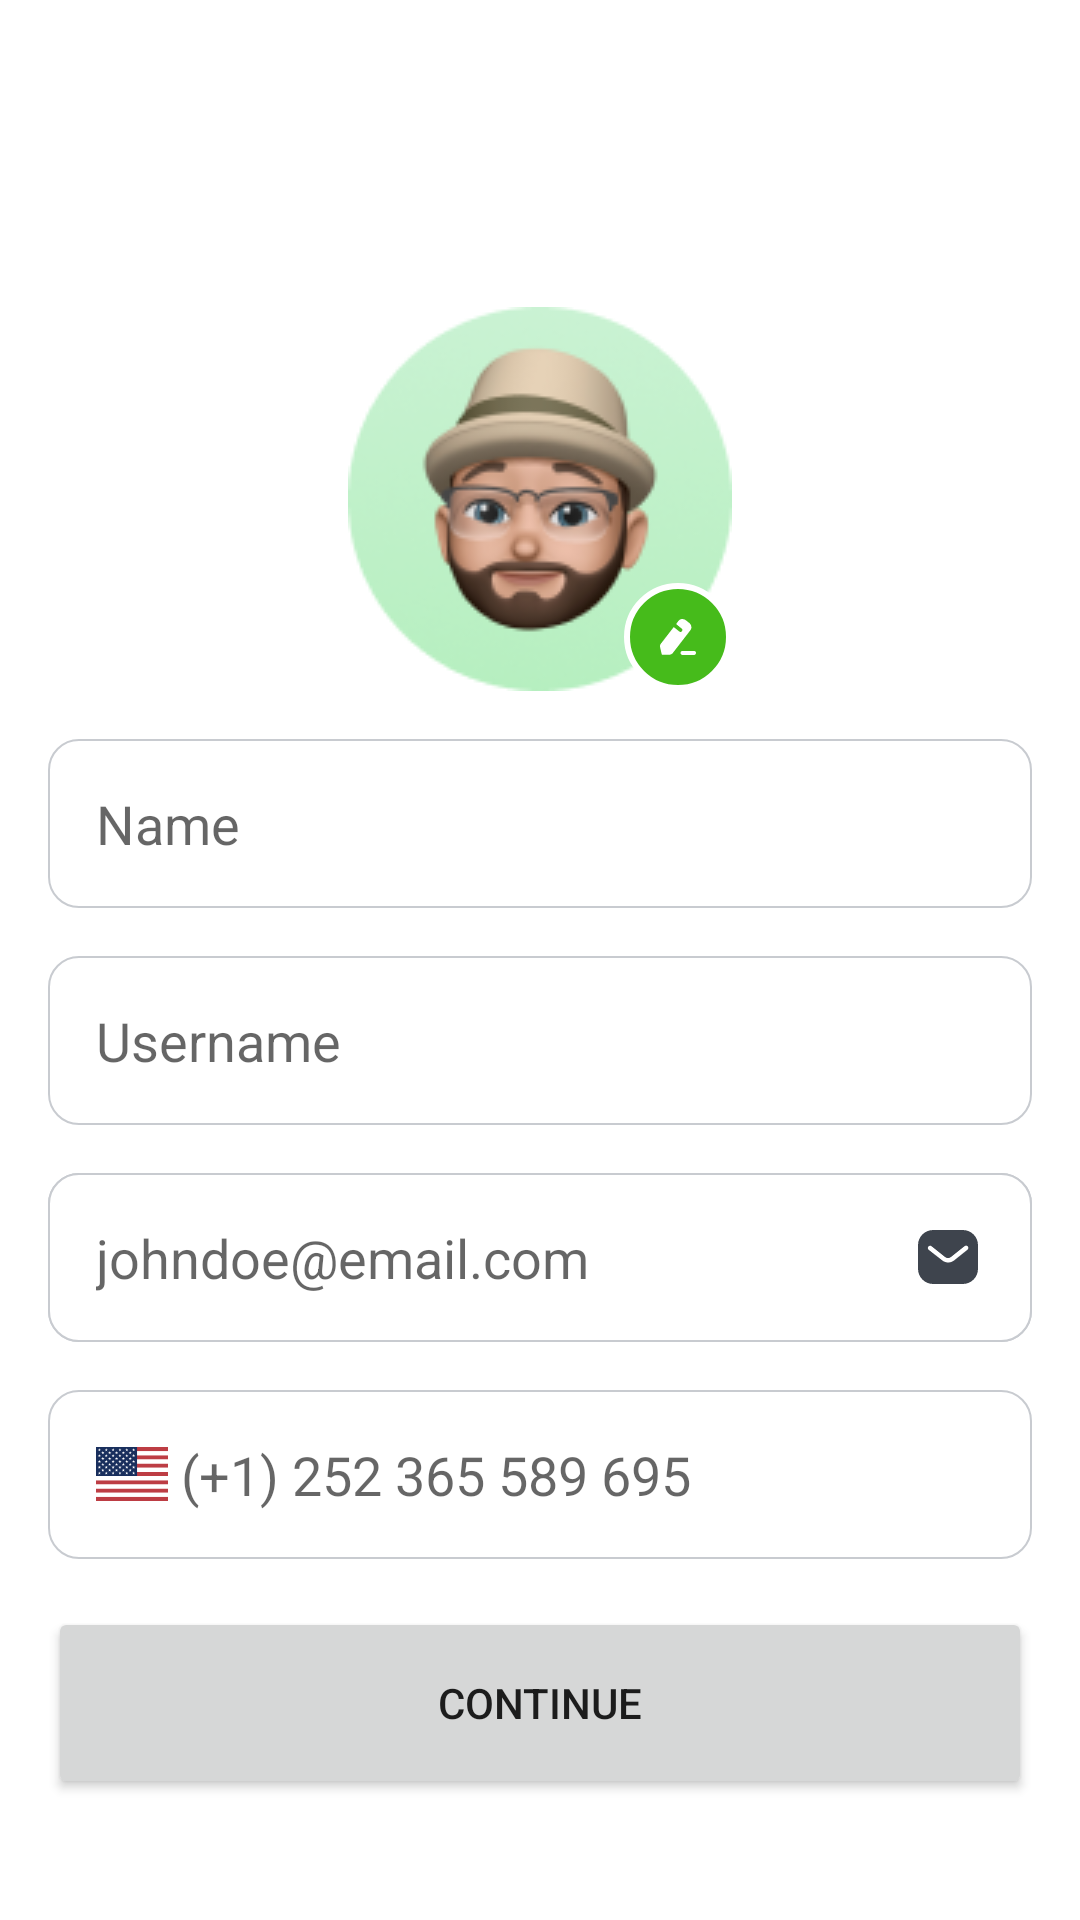

Where to tap for icons on this 1080 x 1920 app screen, as (x=x, y=y):
edit: (x=678, y=637)
